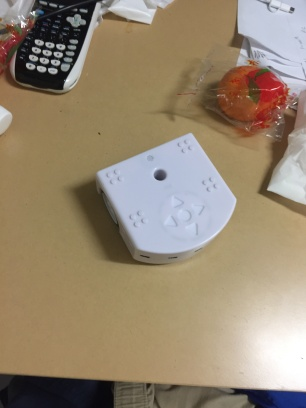thymio: (87, 125, 243, 275)
